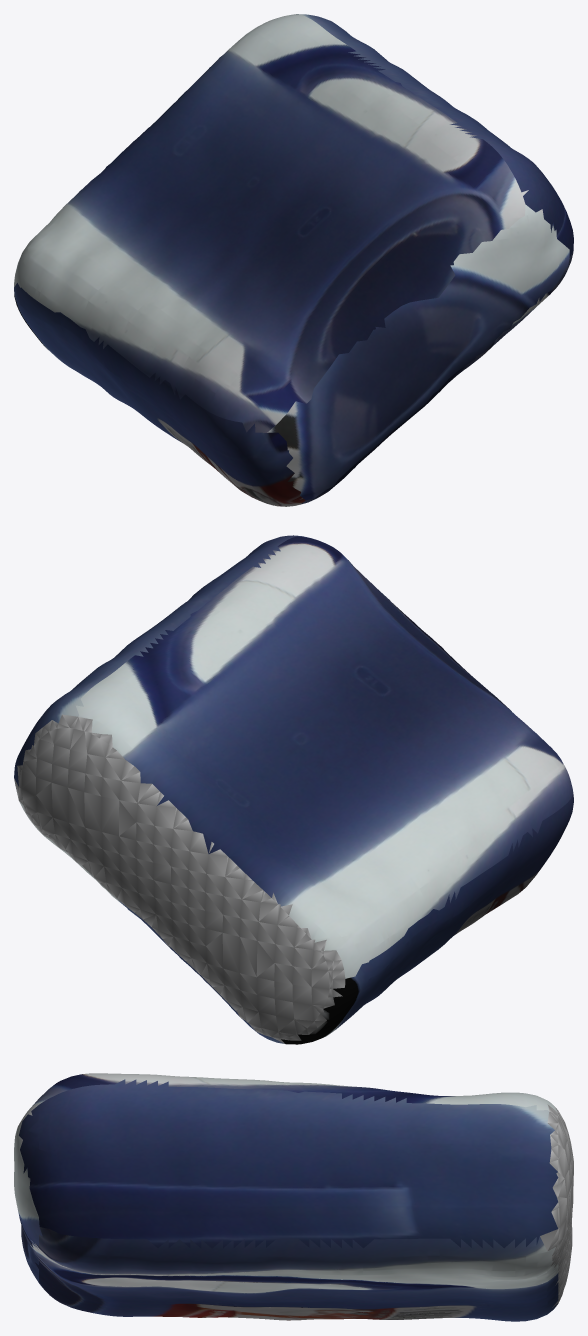
Rendered from model_com.obj.
3 renders of one model, top to bottom at view 1: azimuth 30°, elevation 25°; view 2: azimuth 150°, elevation 25°; view 3: azimuth 270°, elevation 25°, orthographic. The views are drawn at different scales.
Bounding box in the file's own units: 0.0898 × 0.0746 × 0.1119.
